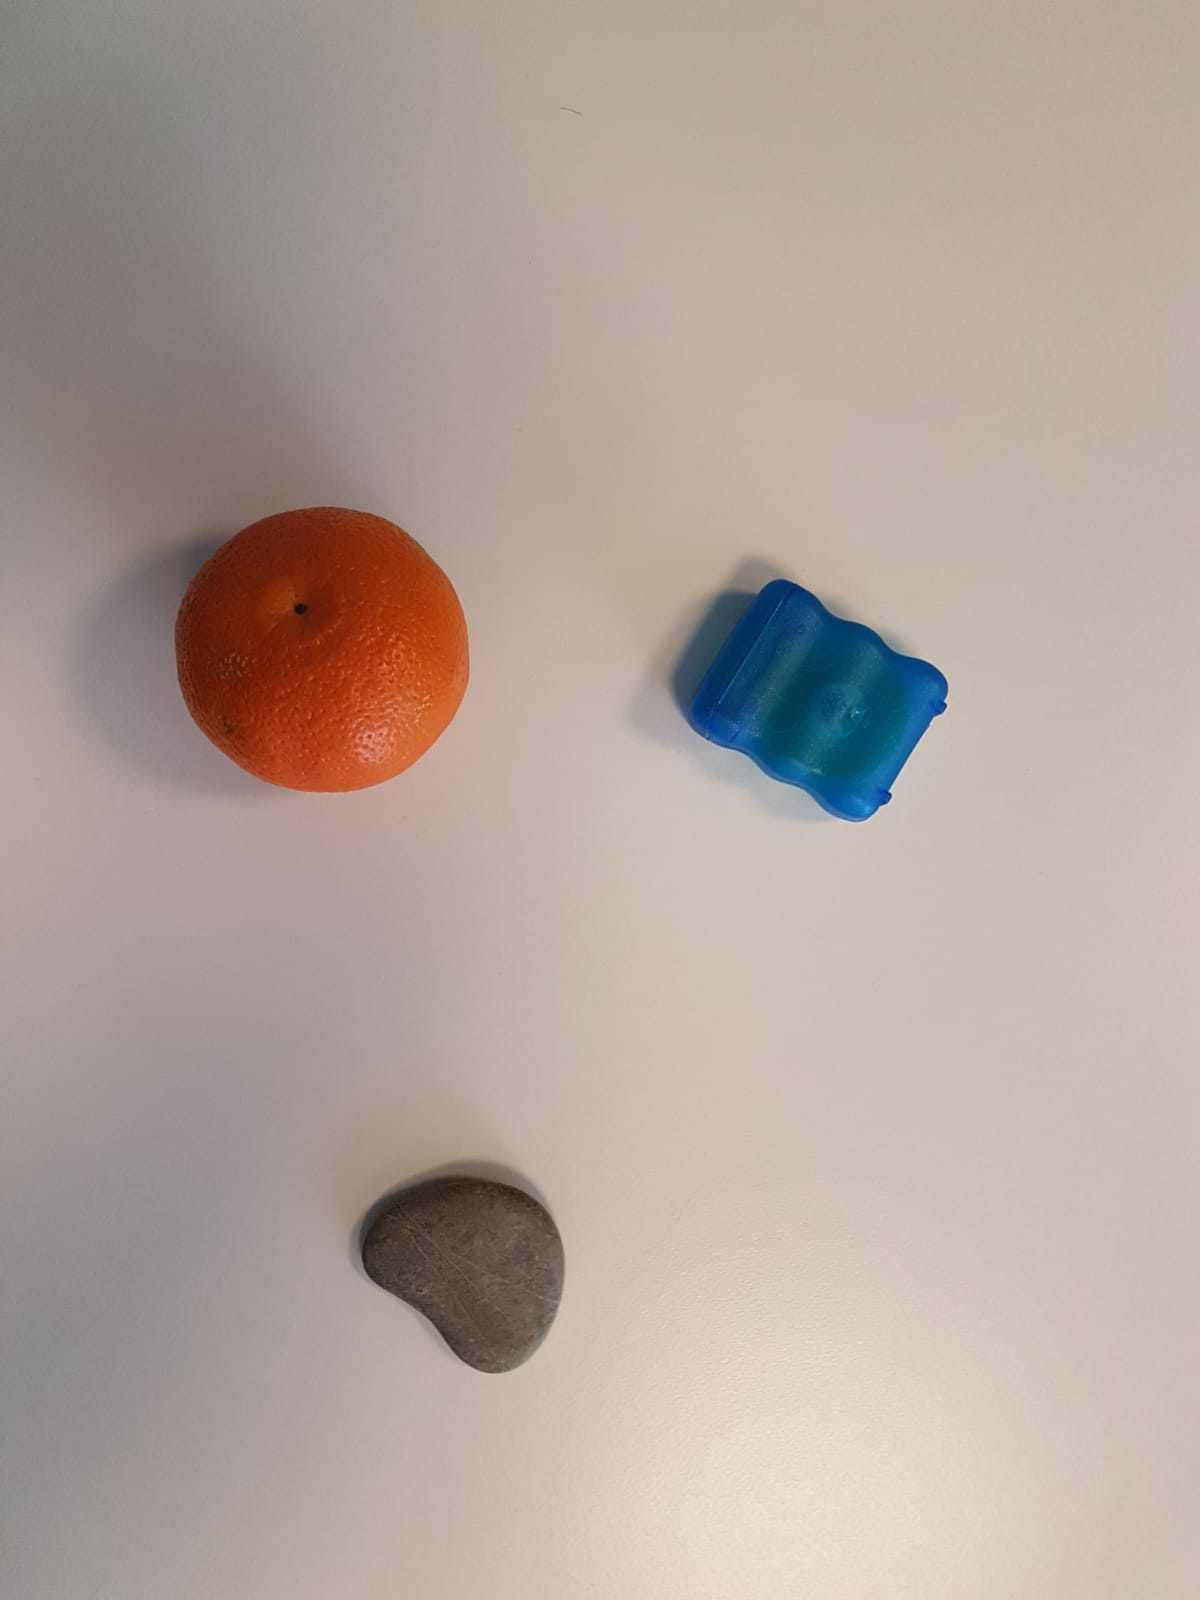Box: (695, 585, 955, 826)
Orange: (171, 505, 470, 797)
Stone: (355, 1177, 563, 1377)
